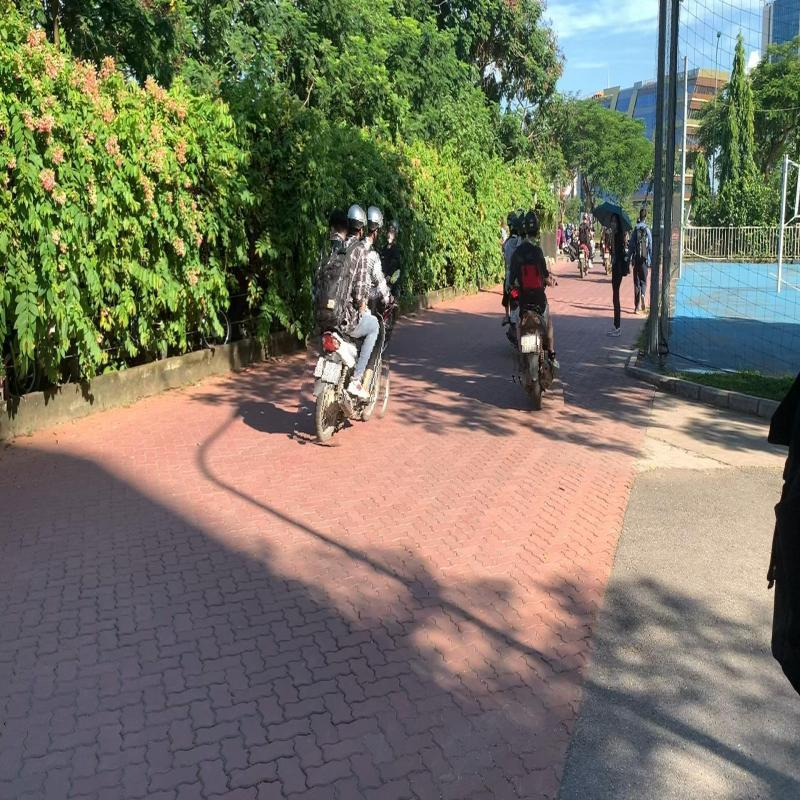helmet: (348, 202, 368, 237), (524, 211, 540, 240)
licenseplate: (322, 360, 342, 384), (521, 335, 538, 355)
motorcyclist: (303, 200, 405, 450), (505, 209, 560, 412)
nohelmet: (328, 207, 349, 241)
